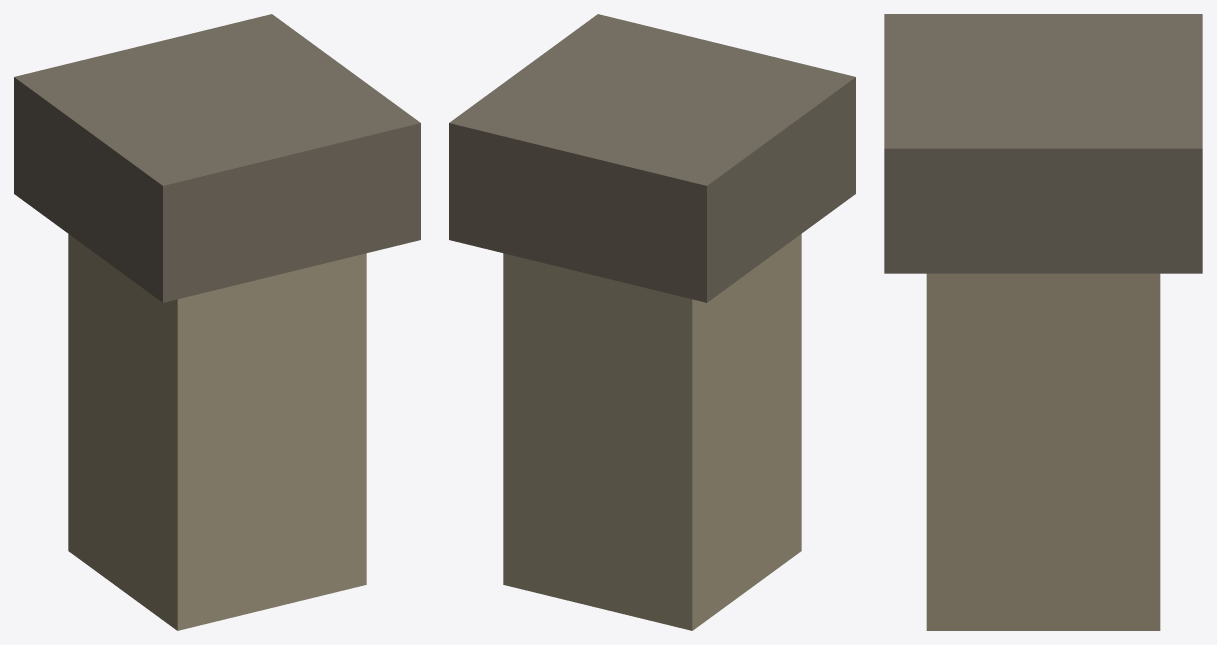
Rendered from bw-post.tone-v1.lod2.glb.
3 views of the same model, side by side, from view 1: azimuth 30°, elevation 25°; view 2: azimuth 150°, elevation 25°; view 3: azimuth 270°, elevation 25° (orthographic). The views are drawn at different scales.
Visible parts, largest first — view 1: bw-post; view 2: bw-post; view 3: bw-post.
Part boxes in pixels (box(x1,y1,x2,y2)): bw-post: box(14, 14, 420, 630); bw-post: box(449, 14, 855, 630); bw-post: box(884, 14, 1202, 630).
Bounding box in the file's own units: 6 × 10.4 × 6.
